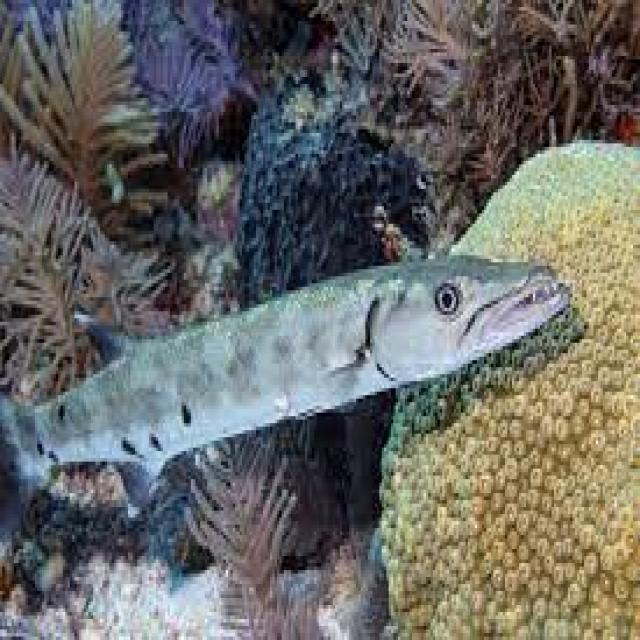Barracuda: (2, 255, 572, 556)
